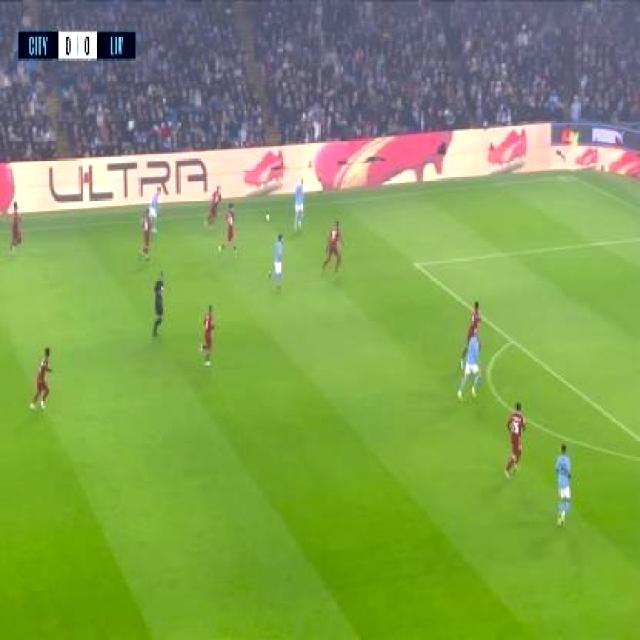bigarea_top_inner: (403, 249, 428, 280)
corner: (558, 168, 582, 186)
top_arc_area_intersection: (502, 328, 522, 354)
